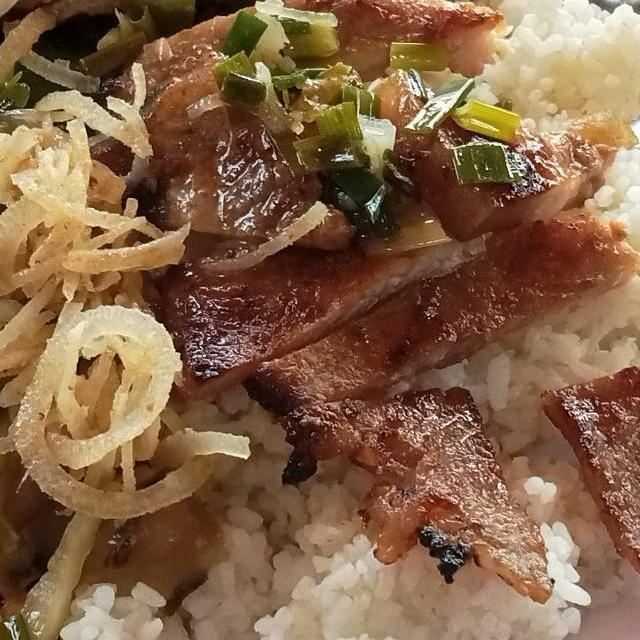bi: (0, 0, 258, 531)
com: (19, 376, 640, 640), (394, 140, 640, 466), (403, 0, 640, 160)
dua chua: (0, 403, 239, 640)
suon: (104, 0, 640, 436), (272, 381, 562, 613), (0, 0, 503, 82), (530, 346, 640, 625)
